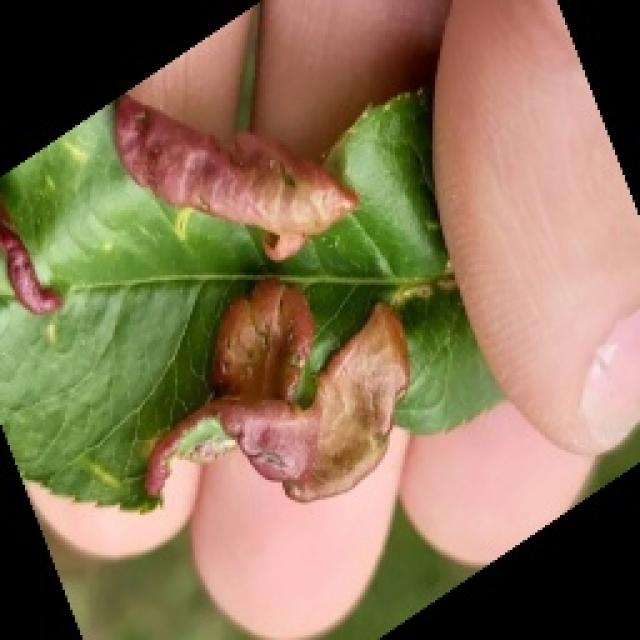peach_leaf_curl: (70, 82, 447, 490)
